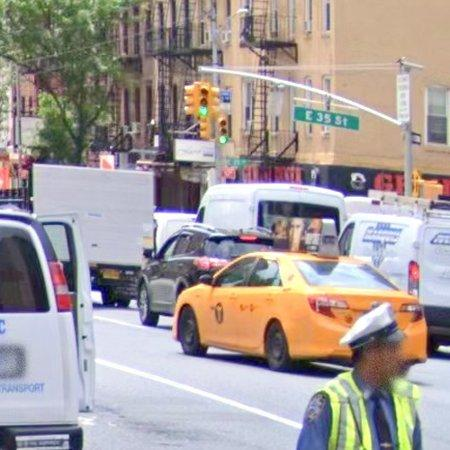taxis: (173, 252, 427, 370)
